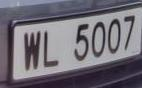0: (91, 17, 108, 63), (107, 15, 123, 59)
5: (73, 19, 91, 67)
7: (122, 11, 137, 55)
L: (41, 25, 63, 72)
W: (21, 24, 44, 74)
